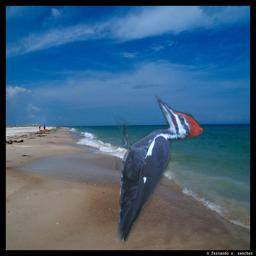Woodpecker: (114, 92, 203, 248)
